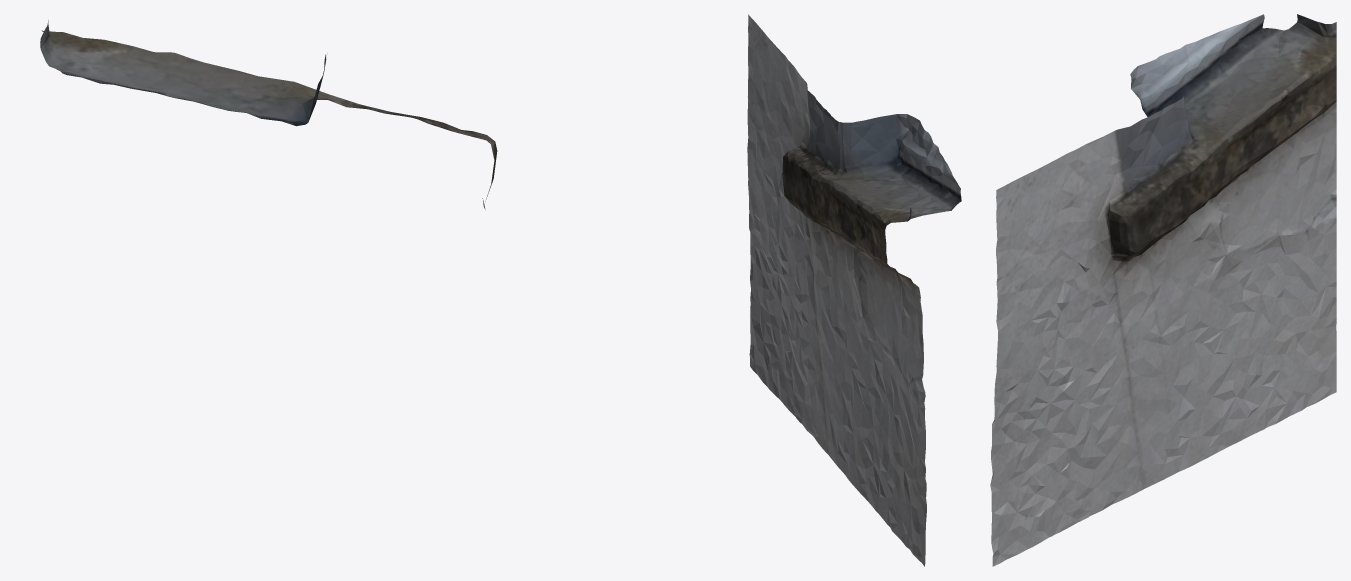
3 renders of one model, left to right at view 1: azimuth 30°, elevation 25°; view 2: azimuth 150°, elevation 25°; view 3: azimuth 270°, elevation 25°, orthographic. The views are drawn at different scales.
Bounding box in the file's own units: 0.8374 × 0.8374 × 0.697.
3 materials, 3 textured.
